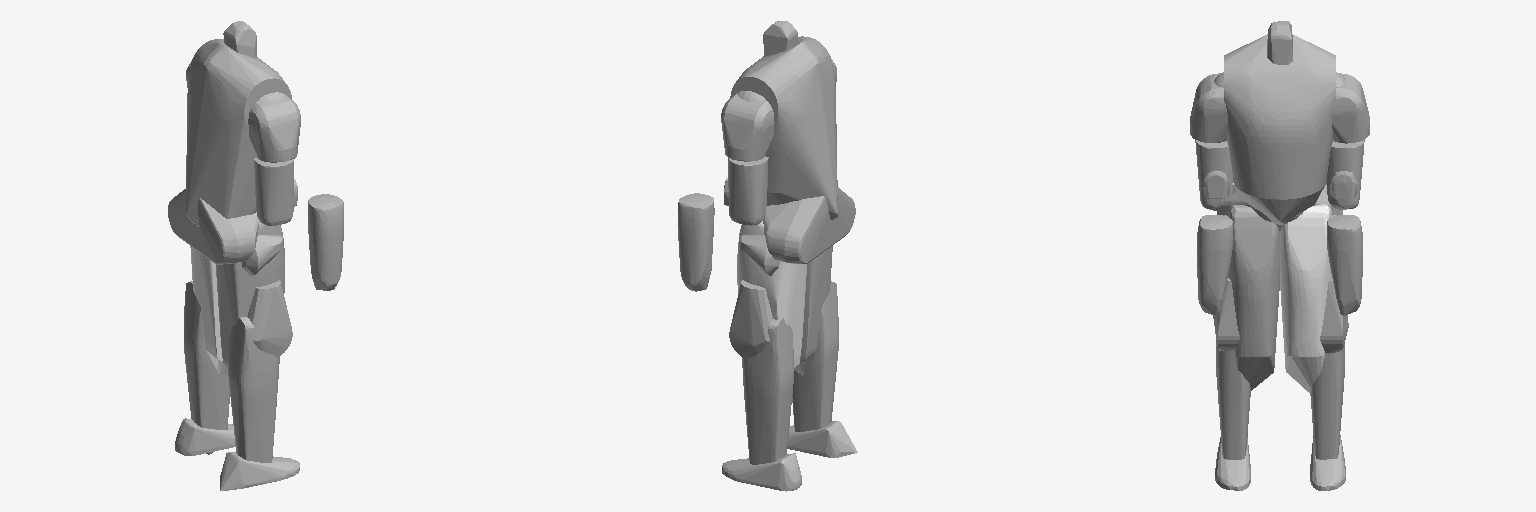
--- Facts derived from the render (not from the file) ---
The picture shows the robot from 3 angles, left to right: view 1: azimuth 30°, elevation 25°; view 2: azimuth 150°, elevation 25°; view 3: azimuth 270°, elevation 25°; orthographic projection.
Robot: z2_humanoid — 25 links, 24 joints (24 revolute); root link pelvis; default pose: every joint at zero.
Visible links, largest first — view 1: link_wy, LINK_KNEE_PITCH_R, LINK_KNEE_PITCH_L, pelvis, LINK_HIP_PITCH_R, link_ra5, link_ra2, LINK_HIP_YAW_R, link_ra3, LINK_HIP_PITCH_L, LINK_ANKLE_ROLL_R, LINK_ANKLE_ROLL_L (+2 smaller); view 2: link_wy, LINK_KNEE_PITCH_L, pelvis, LINK_KNEE_PITCH_R, LINK_HIP_PITCH_L, link_la5, link_la2, LINK_HIP_YAW_L, link_la3, LINK_HIP_PITCH_R, LINK_ANKLE_ROLL_L, LINK_ANKLE_ROLL_R (+2 smaller); view 3: link_wy, LINK_HIP_PITCH_L, LINK_HIP_PITCH_R, link_ra5, link_la5, LINK_KNEE_PITCH_R, LINK_KNEE_PITCH_L, link_ra2, link_la2, link_ra3, link_la3, LINK_HIP_YAW_L (+7 smaller).
Link boxes in pixels (x1,y1,x2,y2): link_wy: [186, 39, 291, 226]; LINK_KNEE_PITCH_R: [228, 317, 279, 462]; LINK_KNEE_PITCH_L: [184, 281, 229, 454]; pelvis: [168, 189, 258, 264]; LINK_HIP_PITCH_R: [216, 220, 284, 368]; link_ra5: [308, 194, 343, 290]; link_ra2: [248, 95, 300, 162]; LINK_HIP_YAW_R: [247, 280, 292, 357]; link_ra3: [254, 158, 293, 225]; LINK_HIP_PITCH_L: [190, 246, 227, 374]; LINK_ANKLE_ROLL_R: [220, 452, 299, 490]; LINK_ANKLE_ROLL_L: [175, 418, 235, 455]; link_wy: [730, 36, 837, 219]; LINK_KNEE_PITCH_L: [742, 318, 793, 464]; pelvis: [763, 187, 855, 263]; LINK_KNEE_PITCH_R: [792, 281, 838, 431]; LINK_HIP_PITCH_L: [737, 221, 806, 370]; link_la5: [678, 193, 714, 291]; link_la2: [721, 93, 774, 161]; LINK_HIP_YAW_L: [729, 280, 772, 358]; link_la3: [728, 156, 768, 225]; LINK_HIP_PITCH_R: [795, 246, 832, 375]; LINK_ANKLE_ROLL_L: [722, 453, 801, 491]; LINK_ANKLE_ROLL_R: [787, 421, 857, 457]; link_wy: [1224, 34, 1335, 224]; LINK_HIP_PITCH_L: [1280, 204, 1331, 393]; LINK_HIP_PITCH_R: [1228, 205, 1279, 390]; link_ra5: [1197, 215, 1232, 315]; link_la5: [1327, 215, 1362, 315]; LINK_KNEE_PITCH_R: [1216, 340, 1250, 459]; LINK_KNEE_PITCH_L: [1310, 344, 1344, 459]; link_ra2: [1190, 73, 1227, 142]; link_la2: [1332, 73, 1369, 143]; link_ra3: [1195, 140, 1233, 210]; link_la3: [1326, 140, 1364, 209]; LINK_HIP_YAW_L: [1320, 278, 1348, 352].
Bounding box of the posed robot: 0.3843 × 0.473 × 1.32 m (x, y, z).
25 mesh visuals loaded from 25 distinct referenced files (25 binary STL).

URDF robot description (z2_humanoid):
<?xml version="1.0" encoding="utf-8"?>
<!-- This URDF was automatically created by SolidWorks to URDF Exporter! Originally created by Stephen Brawner ([email redacted]) 
     Commit Version: 1.6.0-4-g7f85cfe  Build Version: 1.6.7995.38578
     For more information, please see http://wiki.ros.org/sw_urdf_exporter -->
<robot
  name="z2_humanoid">
  <link
    name="pelvis">
    <inertial>
      <origin
        xyz="0.0001 0 0.0044"
        rpy="0 0 0" />
      <mass
        value="3.4083" />
      <inertia
        ixx="0.0095"
        ixy="0"
        ixz="0"
        iyy="0.0056"
        iyz="0"
        izz="0.0094" />
    </inertial>
    <visual>
      <origin
        xyz="0 0 0"
        rpy="0 0 0" />
      <geometry>
        <mesh
          filename="package://z2_humanoid_description/meshes/pelvis.STL" />
      </geometry>
      <material
        name="">
        <color
          rgba="0.75294 0.75294 0.75294 1" />
      </material>
    </visual>
    <collision>
      <origin
        xyz="0 0 0"
        rpy="0 0 0" />
      <geometry>
        <mesh
          filename="package://z2_humanoid_description/meshes/pelvis.STL" />
      </geometry>
    </collision> 
    <collision>
      <origin
        xyz="0 0 0"
        rpy="0 0 0" />
      <geometry>
        <sphere radius="0.1"/>
      </geometry>
    </collision>
  </link>

  <!-- ###################################################################-->  
  <!-- ###########################  l_leg ################################-->  
  <!-- ###################################################################-->  
  <link
    name="LINK_HIP_PITCH_L">
    <inertial>
      <origin
        xyz="-0.0002 0.0495 -0.0399"
        rpy="0 0 0" />
      <mass
        value="1.5089" />
      <inertia
        ixx="0.002"
        ixy="0"
        ixz="0"
        iyy="0.0016"
        iyz="0.0003"
        izz="0.0014" />
    </inertial>
    <visual>
      <origin
        xyz="0 0 0"
        rpy="0 0 0" />
      <geometry>
        <mesh
          filename="package://z2_humanoid_description/meshes/LINK_HIP_PITCH_L.STL" />
      </geometry>
      <material
        name="">
        <color
          rgba="1 1 1 1" />
      </material>
    </visual>
    <collision>
      <origin
        xyz="0 0 0"
        rpy="0 0 0" />
      <geometry>
        <mesh
          filename="package://z2_humanoid_description/meshes/LINK_HIP_PITCH_L.STL" />
      </geometry>
    </collision>
  </link>
  <joint
    name="JOINT_HIP_PITCH_L"
    type="revolute">
    <origin
      xyz="0 0.06875 0"
      rpy="0 0 0" />
    <parent
      link="pelvis" />
    <child
      link="LINK_HIP_PITCH_L" />
    <axis
      xyz="0 1 0" />
    <limit
      lower="-2.7925"
      upper="2.7925"
      effort="120"
      velocity="20" />
  </joint>
  <link
    name="LINK_HIP_ROLL_L">
    <inertial>
      <origin
        xyz="0.0066 -0.0001 -0.0869"
        rpy="0 0 0" />
      <mass
        value="1.9215" />
      <inertia
        ixx="0.0035"
        ixy="0"
        ixz="-0.0007"
        iyy="0.0036"
        iyz="0"
        izz="0.0026" />
    </inertial>
    <visual>
      <origin
        xyz="0 0 0"
        rpy="0 0 0" />
      <geometry>
        <mesh
          filename="package://z2_humanoid_description/meshes/LINK_HIP_ROLL_L.STL" />
      </geometry>
      <material
        name="">
        <color
          rgba="0.75294 0.75294 0.75294 1" />
      </material>
    </visual>
    <collision>
      <origin
        xyz="0 0 0"
        rpy="0 0 0" />
      <geometry>
        <mesh
          filename="package://z2_humanoid_description/meshes/LINK_HIP_ROLL_L.STL" />
      </geometry>
    </collision>
  </link>
  <joint
    name="JOINT_HIP_ROLL_L"
    type="revolute">
    <origin
      xyz="0 0.053724 -0.045579"
      rpy="0 0 0" />
    <parent
      link="LINK_HIP_PITCH_L" />
    <child
      link="LINK_HIP_ROLL_L" />
    <axis
      xyz="1 0 0" />
    <limit
      lower="-0.524"
      upper="2.967"
      effort="120"
      velocity="20" />
  </joint>
  <link
    name="LINK_HIP_YAW_L">
    <inertial>
      <origin
        xyz="-0.0188 -0.0041 -0.0763"
        rpy="0 0 0" />
      <mass
        value="0.9002" />
      <inertia
        ixx="0.0036"
        ixy="-0.0001"
        ixz="-0.0009"
        iyy="0.0038"
        iyz="-0.0001"
        izz="0.002" />
    </inertial>
    <visual>
      <origin
        xyz="0 0 0"
        rpy="0 0 0" />
      <geometry>
        <mesh
          filename="package://z2_humanoid_description/meshes/LINK_HIP_YAW_L.STL" />
      </geometry>
      <material
        name="">
        <color
          rgba="0.75294 0.75294 0.75294 1" />
      </material>
    </visual>
    <collision>
      <origin
        xyz="0 0 0"
        rpy="0 0 0" />
      <geometry>
        <mesh
          filename="package://z2_humanoid_description/meshes/LINK_HIP_YAW_L.STL" />
      </geometry>
    </collision>
  </link>
  <joint
    name="JOINT_HIP_YAW_L"
    type="revolute">
    <origin
      xyz="-0.00084052 0 -0.1255"
      rpy="0 0 0" />
    <parent
      link="LINK_HIP_ROLL_L" />
    <child
      link="LINK_HIP_YAW_L" />
    <axis
      xyz="0 0 1" />
    <limit
      lower="-2.7925"
      upper="2.7925"
      effort="120"
      velocity="20" />
  </joint>
  <link
    name="LINK_KNEE_PITCH_L">
    <inertial>
      <origin
        xyz="0.0009 -0.0007 -0.101"
        rpy="0 0 0" />
      <mass
        value="3.7275" />
      <inertia
        ixx="0.0406"
        ixy="0"
        ixz="0.0004"
        iyy="0.0412"
        iyz="0.0004"
        izz="0.0064" />
    </inertial>
    <visual>
      <origin
        xyz="0 0 0"
        rpy="0 0 0" />
      <geometry>
        <mesh
          filename="package://z2_humanoid_description/meshes/LINK_KNEE_PITCH_L.STL" />
      </geometry>
      <material
        name="">
        <color
          rgba="0.75294 0.75294 0.75294 1" />
      </material>
    </visual>
    <collision>
      <origin
        xyz="0 0 0"
        rpy="0 0 0" />
      <geometry>
        <mesh
          filename="package://z2_humanoid_description/meshes/LINK_KNEE_PITCH_L.STL" />
      </geometry>
    </collision>
  </link>
  <joint
    name="JOINT_KNEE_PITCH_L"
    type="revolute">
    <origin
      xyz="-0.052111 0 -0.13729"
      rpy="0 0 0" />
    <parent
      link="LINK_HIP_YAW_L" />
    <child
      link="LINK_KNEE_PITCH_L" />
    <axis
      xyz="0 1 0" />
    <limit
      lower="0"
      upper="2.653"
      effort="120"
      velocity="20" />
  </joint>
  <link
    name="LINK_ANKLE_PITCH_L">
    <inertial>
      <origin
        xyz="0.00094063 5.0401E-07 -0.0083154"
        rpy="0 0 0" />
      <mass
        value="0.048544" />
      <inertia
        ixx="1.033E-05"
        ixy="0"
        ixz="0"
        iyy="1.12E-05"
        iyz="0"
        izz="1.1E-05" />
    </inertial>
    <visual>
      <origin
        xyz="0 0 0"
        rpy="0 0 0" />
      <geometry>
        <mesh
          filename="package://z2_humanoid_description/meshes/LINK_ANKLE_PITCH_L.STL" />
      </geometry>
      <material
        name="">
        <color
          rgba="0.75294 0.75294 0.75294 1" />
      </material>
    </visual>
    <collision>
      <origin
        xyz="0 0 0"
        rpy="0 0 0" />
      <geometry>
        <mesh
          filename="package://z2_humanoid_description/meshes/LINK_ANKLE_PITCH_L.STL" />
      </geometry>
    </collision>
  </link>
  <joint
    name="JOINT_ANKLE_PITCH_L"
    type="revolute">
    <origin
      xyz="0 0 -0.34"
      rpy="0 0 0" />
    <parent
      link="LINK_KNEE_PITCH_L" />
    <child
      link="LINK_ANKLE_PITCH_L" />
    <axis
      xyz="0 1 0" />
    <limit
      lower="-0.873"
      upper="0.524"
      effort="50"
      velocity="15" />
  </joint>
  <link
    name="LINK_ANKLE_ROLL_L">
    <inertial>
      <origin
        xyz="0.041316 0.00048241 -0.031752"
        rpy="0 0 0" />
      <mass
        value="0.7019" />
      <inertia
        ixx="0.0004"
        ixy="0"
        ixz="0.0001"
        iyy="0.0023"
        iyz="0"
        izz="0.0024" />
    </inertial>
    <visual>
      <origin
        xyz="0 0 0"
        rpy="0 0 0" />
      <geometry>
        <mesh
          filename="package://z2_humanoid_description/meshes/LINK_ANKLE_ROLL_L.STL" />
      </geometry>
      <material
        name="">
        <color
          rgba="0.75294 0.75294 0.75294 1" />
      </material>
    </visual>
    <collision>
      <origin
        xyz="0 0 0"
        rpy="0 0 0" />
      <geometry>
        <mesh
          filename="package://z2_humanoid_description/meshes/LINK_ANKLE_ROLL_L.STL" />
      </geometry>
    </collision>
  </link>
  <joint
    name="JOINT_ANKLE_ROLL_L"
    type="revolute">
    <origin
      xyz="0 0 -0.018"
      rpy="0 0 0" />
    <parent
      link="LINK_ANKLE_PITCH_L" />
    <child
      link="LINK_ANKLE_ROLL_L" />
    <axis
      xyz="1 0 0" />
    <limit
      lower="-0.262"
      upper="0.262"
      effort="50"
      velocity="15" />
  </joint>

  <!-- ###################################################################-->  
  <!-- ###########################  r_leg ################################-->  
  <!-- ###################################################################-->  
  <link
    name="LINK_HIP_PITCH_R">
    <inertial>
      <origin
        xyz="-0.0002 -0.0492 -0.0399"
        rpy="0 0 0" />
      <mass
        value="1.5089" />
      <inertia
        ixx="0.002"
        ixy="0"
        ixz="0"
        iyy="0.0016"
        iyz="-0.0003"
        izz="0.0014" />
    </inertial>
    <visual>
      <origin
        xyz="0 0 0"
        rpy="0 0 0" />
      <geometry>
        <mesh
          filename="package://z2_humanoid_description/meshes/LINK_HIP_PITCH_R.STL" />
      </geometry>
      <material
        name="">
        <color
          rgba="0.75294 0.75294 0.75294 1" />
      </material>
    </visual>
    <collision>
      <origin
        xyz="0 0 0"
        rpy="0 0 0" />
      <geometry>
        <mesh
          filename="package://z2_humanoid_description/meshes/LINK_HIP_PITCH_R.STL" />
      </geometry>
    </collision>
  </link>
  <joint
    name="JOINT_HIP_PITCH_R"
    type="revolute">
    <origin
      xyz="0 -0.06875 0"
      rpy="0 0 0" />
    <parent
      link="pelvis" />
    <child
      link="LINK_HIP_PITCH_R" />
    <axis
      xyz="0 1 0" />
    <limit
      lower="-2.7925"
      upper="2.7925"
      effort="120"
      velocity="20" />
  </joint>
  <link
    name="LINK_HIP_ROLL_R">
    <inertial>
      <origin
        xyz="0.0069 0.0029 -0.0869"
        rpy="0 0 0" />
      <mass
        value="1.9215" />
      <inertia
        ixx="0.0035"
        ixy="0"
        ixz="-0.0007"
        iyy="0.0036"
        iyz="0"
        izz="0.0026" />
    </inertial>
    <visual>
      <origin
        xyz="0 0 0"
        rpy="0 0 0" />
      <geometry>
        <mesh
          filename="package://z2_humanoid_description/meshes/LINK_HIP_ROLL_R.STL" />
      </geometry>
      <material
        name="">
        <color
          rgba="0.75294 0.75294 0.75294 1" />
      </material>
    </visual>
    <collision>
      <origin
        xyz="0 0 0"
        rpy="0 0 0" />
      <geometry>
        <mesh
          filename="package://z2_humanoid_description/meshes/LINK_HIP_ROLL_R.STL" />
      </geometry>
    </collision>
  </link>
  <joint
    name="JOINT_HIP_ROLL_R"
    type="revolute">
    <origin
      xyz="0 -0.053724 -0.045579"
      rpy="0 0 0" />
    <parent
      link="LINK_HIP_PITCH_R" />
    <child
      link="LINK_HIP_ROLL_R" />
    <axis
      xyz="1 0 0" />
    <limit
      lower="-2.967"
      upper="0.524"
      effort="120"
      velocity="20" />
  </joint>
  <link
    name="LINK_HIP_YAW_R">
    <inertial>
      <origin
        xyz="-0.0188 0.0027 -0.0763"
        rpy="0 0 0" />
      <mass
        value="0.9002" />
      <inertia
        ixx="0.0036"
        ixy="0.0001"
        ixz="-0.0009"
        iyy="0.0038"
        iyz="0.0001"
        izz="0.002" />
    </inertial>
    <visual>
      <origin
        xyz="0 0 0"
        rpy="0 0 0" />
      <geometry>
        <mesh
          filename="package://z2_humanoid_description/meshes/LINK_HIP_YAW_R.STL" />
      </geometry>
      <material
        name="">
        <color
          rgba="0.75294 0.75294 0.75294 1" />
      </material>
    </visual>
    <collision>
      <origin
        xyz="0 0 0"
        rpy="0 0 0" />
      <geometry>
        <mesh
          filename="package://z2_humanoid_description/meshes/LINK_HIP_YAW_R.STL" />
      </geometry>
    </collision>
  </link>
  <joint
    name="JOINT_HIP_YAW_R"
    type="revolute">
    <origin
      xyz="-0.00050599 0.0029213 -0.12555"
      rpy="0 0 0" />
    <parent
      link="LINK_HIP_ROLL_R" />
    <child
      link="LINK_HIP_YAW_R" />
    <axis
      xyz="0 0 1" />
    <limit
      lower="-2.7925"
      upper="2.7925"
      effort="120"
      velocity="20" />
  </joint>
  <link
    name="LINK_KNEE_PITCH_R">
    <inertial>
      <origin
        xyz="0.0009 0.0009 -0.101"
        rpy="0 0 0" />
      <mass
        value="3.7292" />
      <inertia
        ixx="0.0406"
        ixy="0"
        ixz="0.0004"
        iyy="0.0412"
        iyz="-0.0003"
        izz="0.0064" />
    </inertial>
    <visual>
      <origin
        xyz="0 0 0"
        rpy="0 0 0" />
      <geometry>
        <mesh
          filename="package://z2_humanoid_description/meshes/LINK_KNEE_PITCH_R.STL" />
      </geometry>
      <material
        name="">
        <color
          rgba="0.75294 0.75294 0.75294 1" />
      </material>
    </visual>
    <collision>
      <origin
        xyz="0 0 0"
        rpy="0 0 0" />
      <geometry>
        <mesh
          filename="package://z2_humanoid_description/meshes/LINK_KNEE_PITCH_R.STL" />
      </geometry>
    </collision>
  </link>
  <joint
    name="JOINT_KNEE_PITCH_R"
    type="revolute">
    <origin
      xyz="-0.052111 0 -0.13729"
      rpy="0 0 0" />
    <parent
      link="LINK_HIP_YAW_R" />
    <child
      link="LINK_KNEE_PITCH_R" />
    <axis
      xyz="0 1 0" />
    <limit
      lower="0"
      upper="2.653"
      effort="120"
      velocity="20" />
  </joint>
  <link
    name="LINK_ANKLE_PITCH_R">
    <inertial>
      <origin
        xyz="0.0009 0 -0.0083"
        rpy="0 0 0" />
      <mass
        value="0.048544" />
      <inertia
        ixx="1.033E-05"
        ixy="0"
        ixz="0"
        iyy="1.12E-05"
        iyz="0"
        izz="1.1E-05" />
    </inertial>
    <visual>
      <origin
        xyz="0 0 0"
        rpy="0 0 0" />
      <geometry>
        <mesh
          filename="package://z2_humanoid_description/meshes/LINK_ANKLE_PITCH_R.STL" />
      </geometry>
      <material
        name="">
        <color
          rgba="0.75294 0.75294 0.75294 1" />
      </material>
    </visual>
    <collision>
      <origin
        xyz="0 0 0"
        rpy="0 0 0" />
      <geometry>
        <mesh
          filename="package://z2_humanoid_description/meshes/LINK_ANKLE_PITCH_R.STL" />
      </geometry>
    </collision>
  </link>
  <joint
    name="JOINT_ANKLE_PITCH_R"
    type="revolute">
    <origin
      xyz="0 0 -0.34"
      rpy="0 0 0" />
    <parent
      link="LINK_KNEE_PITCH_R" />
    <child
      link="LINK_ANKLE_PITCH_R" />
    <axis
      xyz="0 1 0" />
    <limit
      lower="-0.873"
      upper="0.524"
      effort="50"
      velocity="15" />
  </joint>
  <link
    name="LINK_ANKLE_ROLL_R">
    <inertial>
      <origin
        xyz="0.041294 -0.0010615 -0.031752"
        rpy="0 0 0" />
      <mass
        value="0.70183" />
      <inertia
        ixx="0.0004"
        ixy="0"
        ixz="0.0001"
        iyy="0.0023"
        iyz="0"
        izz="0.0024" />
    </inertial>
    <visual>
      <origin
        xyz="0 0 0"
        rpy="0 0 0" />
      <geometry>
        <mesh
          filename="package://z2_humanoid_description/meshes/LINK_ANKLE_ROLL_R.STL" />
      </geometry>
      <material
        name="">
        <color
          rgba="0.75294 0.75294 0.75294 1" />
      </material>
    </visual>
    <collision>
      <origin
        xyz="0 0 0"
        rpy="0 0 0" />
      <geometry>
        <mesh
          filename="package://z2_humanoid_description/meshes/LINK_ANKLE_ROLL_R.STL" />
      </geometry>
    </collision>
  </link>
  <joint
    name="JOINT_ANKLE_ROLL_R"
    type="revolute">
    <origin
      xyz="0 0 -0.018"
      rpy="0 0 0" />
    <parent
      link="LINK_ANKLE_PITCH_R" />
    <child
      link="LINK_ANKLE_ROLL_R" />
    <axis
      xyz="1 0 0" />
    <limit
      lower="-0.262"
      upper="0.262"
      effort="50"
      velocity="15" />
  </joint>

  <!-- ###################################################################-->  
  <!-- ###########################  waist ################################-->  
  <!-- ###################################################################-->  
  <link
    name="link_wy">
    <inertial>
      <origin
        xyz="0.0061 0.0003 0.1879"
        rpy="0 0 0" />
      <mass
        value="9.8779" />
      <inertia
        ixx="0.1556"
        ixy="0"
        ixz="-0.0015"
        iyy="0.1368"
        iyz="0"
        izz="0.0457" />
    </inertial>
    <visual>
      <origin
        xyz="0 0 0"
        rpy="0 0 0" />
      <geometry>
        <mesh
          filename="package://z2_humanoid_description/meshes/link_wy.STL" />
      </geometry>
      <material
        name="">
        <color
          rgba="0.75294 0.75294 0.75294 1" />
      </material>
    </visual>
    <collision>
      <origin
        xyz="0 0 0"
        rpy="0 0 0" />
      <geometry>
        <mesh
          filename="package://z2_humanoid_description/meshes/link_wy.STL" />
      </geometry>
    </collision>
  </link>
  <joint
    name="joint_wy"
    type="revolute">
    <origin
      xyz="0 0 0.0619"
      rpy="0 0 0" />
    <parent
      link="pelvis" />
    <child
      link="link_wy" />
    <axis
      xyz="0 0 1" />
    <limit
      lower="-2.79"
      upper="2.79"
      effort="120"
      velocity="20" />
  </joint>  
  <!-- ###################################################################-->  
  <!-- ###########################  l_arm ################################-->  
  <!-- ###################################################################-->  
  <link
    name="link_la1">
    <inertial>
      <origin
        xyz="0.0033 0.0422 -0.0117"
        rpy="0 0 0" />
      <mass
        value="0.8939" />
      <inertia
        ixx="0.001"
        ixy="0"
        ixz="0"
        iyy="0.0007"
        iyz="0.0001"
        izz="0.0009" />
    </inertial>
    <visual>
      <origin
        xyz="0 0 0"
        rpy="0 0 0" />
      <geometry>
        <mesh
          filename="package://z2_humanoid_description/meshes/link_la1.STL" />
      </geometry>
      <material
        name="">
        <color
          rgba="0.75294 0.75294 0.75294 1" />
      </material>
    </visual>
    <collision>
      <origin
        xyz="0 0 0"
        rpy="0 0 0" />
      <geometry>
        <mesh
          filename="package://z2_humanoid_description/meshes/link_la1.STL" />
      </geometry>
    </collision>
  </link>
  <joint
    name="joint_la1"
    type="revolute">
    <origin
      xyz="0 0.11963 0.3208"
      rpy="0 0 0" />
    <parent
      link="link_wy" />
    <child
      link="link_la1" />
    <axis
      xyz="0 0.99255 -0.12187" />
    <limit
      lower="-2.88"
      upper="2.88"
      effort="50"
      velocity="14" />
  </joint>
  <link
    name="link_la2">
    <inertial>
      <origin
        xyz="-0.0006 0.0016 -0.0673"
        rpy="0 0 0" />
      <mass
        value="0.7787" />
      <inertia
        ixx="0.0012"
        ixy="0"
        ixz="0"
        iyy="0.0013"
        iyz="0"
        izz="0.0007" />
    </inertial>
    <visual>
      <origin
        xyz="0 0 0"
        rpy="0 0 0" />
      <geometry>
        <mesh
          filename="package://z2_humanoid_description/meshes/link_la2.STL" />
      </geometry>
      <material
        name="">
        <color
          rgba="0.75294 0.75294 0.75294 1" />
      </material>
    </visual>
    <collision>
      <origin
        xyz="0 0 0"
        rpy="0 0 0" />
      <geometry>
        <mesh
          filename="package://z2_humanoid_description/meshes/link_la2.STL" />
      </geometry>
    </collision>
  </link>
  <joint
    name="joint_la2"
    type="revolute">
    <origin
      xyz="0 0.047187 -0.013786"
      rpy="0 0 0" />
    <parent
      link="link_la1" />
    <child
      link="link_la2" />
    <axis
      xyz="1 0 0" />
    <limit
      lower="-0.175"
      upper="2.2515"
      effort="50"
      velocity="14" />
  </joint>
  <link
    name="link_la3">
    <inertial>
      <origin
        xyz="0.0035409 -0.00073964 -0.044592"
        rpy="0 0 0" />
      <mass
        value="0.35928" />
      <inertia
        ixx="0.0009"
        ixy="0"
        ixz="0.0001"
        iyy="0.0008"
        iyz="0"
        izz="0.0005" />
    </inertial>
    <visual>
      <origin
        xyz="0 0 0"
        rpy="0 0 0" />
      <geometry>
        <mesh
          filename="package://z2_humanoid_description/meshes/link_la3.STL" />
      </geometry>
      <material
        name="">
        <color
          rgba="0.75294 0.75294 0.75294 1" />
      </material>
    </visual>
    <collision>
      <origin
        xyz="0 0 0"
        rpy="0 0 0" />
      <geometry>
        <mesh
          filename="package://z2_humanoid_description/meshes/link_la3.STL" />
      </geometry>
    </collision>
  </link>
  <joint
    name="joint_la3"
    type="revolute">
    <origin
      xyz="0 0 -0.1171"
      rpy="0 0 0" />
    <parent
      link="link_la2" />
    <child
      link="link_la3" />
    <axis
      xyz="0 0 1" />
    <limit
      lower="-2.618"
      upper="2.618"
      effort="50"
      velocity="14" />
  </joint>
  <link
    name="link_la4">
    <inertial>
      <origin
        xyz="0.0447 -0.0015 -0.0086458"
        rpy="0 0 0" />
      <mass
        value="1.48" />
      <inertia
        ixx="0.0012"
        ixy="0.0001"
        ixz="0.0006"
        iyy="0.0046"
        iyz="0"
        izz="0.0044" />
    </inertial>
    <visual>
      <origin
        xyz="0 0 0"
        rpy="0 0 0" />
      <geometry>
        <mesh
          filename="package://z2_humanoid_description/meshes/link_la4.STL" />
      </geometry>
      <material
        name="">
        <color
          rgba="0.75294 0.75294 0.75294 1" />
      </material>
    </visual>
    <collision>
      <origin
        xyz="0 0 0"
        rpy="0 0 0" />
      <geometry>
        <mesh
          filename="package://z2_humanoid_description/meshes/link_la4.STL" />
      </geometry>
    </collision>
  </link>
  <joint
    name="joint_la4"
    type="revolute">
    <origin
      xyz="0.01924 0 -0.0979"
      rpy="0 0 0" />
    <parent
      link="link_la3" />
    <child
      link="link_la4" />
    <axis
      xyz="0 1 0" />
    <limit
      lower="-0.96"
      upper="2.0944"
      effort="50"
      velocity="14" />
  </joint>
  <link
    name="link_la5">
    <inertial>
      <origin
        xyz="0.025808 0.00016898 0.00074869"
        rpy="0 0 0" />
      <mass
        value="0.2728" />
      <inertia
        ixx="0.0002"
        ixy="0"
        ixz="0"
        iyy="0.0003"
        iyz="0"
        izz="0.0003" />
    </inertial>
    <visual>
      <origin
        xyz="0 0 0"
        rpy="0 0 0" />
      <geometry>
        <mesh
          filename="package://z2_humanoid_description/meshes/link_la5.STL" />
      </geometry>
      <material
        name="">
        <color
          rgba="0.75294 0.75294 0.75294 1" />
      </material>
    </visual>
    <collision>
      <origin
        xyz="0 0 0"
        rpy="0 0 0" />
      <geometry>
        <mesh
          filename="package://z2_humanoid_description/meshes/link_la5.STL" />
      </geometry>
    </collision>
  </link>
  <joint
    name="joint_la5"
    type="revolute">
    <origin
      xyz="0.138 0 -0.017415"
      rpy="0 0 0" />
    <parent
      link="link_la4" />
    <child
      link="link_la5" />
    <axis
      xyz="1 0 0" />
    <limit
      lower="-2.618"
      upper="2.618"
      effort="50"
      velocity="14" />
  </joint>

  <!-- ###################################################################-->  
  <!-- ###########################  r_arm ################################-->  
  <!-- ###################################################################-->  
  <link
    name="link_ra1">
    <inertial>
      <origin
        xyz="0.0032 -0.0422 -0.0117"
        rpy="0 0 0" />
      <mass
        value="0.8976" />
      <inertia
        ixx="0.001"
        ixy="0"
        ixz="0"
        iyy="0.0007"
        iyz="-0.0001"
        izz="0.0009" />
    </inertial>
    <visual>
      <origin
        xyz="0 0 0"
        rpy="0 0 0" />
      <geometry>
        <mesh
          filename="package://z2_humanoid_description/meshes/link_ra1.STL" />
      </geometry>
      <material
        name="">
        <color
          rgba="0.75294 0.75294 0.75294 1" />
      </material>
    </visual>
    <collision>
      <origin
        xyz="0 0 0"
        rpy="0 0 0" />
      <geometry>
        <mesh
          filename="package://z2_humanoid_description/meshes/link_ra1.STL" />
      </geometry>
    </collision>
  </link>
  <joint
    name="joint_ra1"
    type="revolute">
    <origin
      xyz="0 -0.11963 0.3208"
      rpy="0 0 0" />
    <parent
      link="link_wy" />
    <child
      link="link_ra1" />
    <axis
      xyz="0 0.99255 -0.12187" />
    <limit
      lower="-2.88"
      upper="2.88"
      effort="50"
      velocity="14" />
  </joint>
  <link
    name="link_ra2">
    <inertial>
      <origin
        xyz="-0.0005 -0.0016 -0.0678"
        rpy="0 0 0" />
      <mass
        value="0.7868" />
      <inertia
        ixx="0.0012"
        ixy="0"
        ixz="0"
        iyy="0.0013"
        iyz="0"
        izz="0.0007" />
    </inertial>
    <visual>
      <origin
        xyz="0 0 0"
        rpy="0 0 0" />
      <geometry>
        <mesh
          filename="package://z2_humanoid_description/meshes/link_ra2.STL" />
      </geometry>
      <material
        name="">
        <color
          rgba="0.75294 0.75294 0.75294 1" />
      </material>
    </visual>
    <collision>
      <origin
        xyz="0 0 0"
        rpy="0 0 0" />
      <geometry>
        <mesh
          filename="package://z2_humanoid_description/meshes/link_ra2.STL" />
      </geometry>
    </collision>
  </link>
  <joint
    name="joint_ra2"
    type="revolute">
    <origin
      xyz="0 -0.047187 -0.013786"
      rpy="0 0 0" />
    <parent
      link="link_ra1" />
    <child
      link="link_ra2" />
    <axis
      xyz="1 0 0" />
    <limit
      lower="-2.2515"
      upper="0.175"
      effort="50"
      velocity="14" />
  </joint>
  <link
    name="link_ra3">
    <inertial>
      <origin
        xyz="0.0035415 0.0007384 -0.044591"
        rpy="0 0 0" />
      <mass
        value="0.3593" />
      <inertia
        ixx="0.0009"
        ixy="0"
        ixz="0.0001"
        iyy="0.0008"
        iyz="0"
        izz="0.0005" />
    </inertial>
    <visual>
      <origin
        xyz="0 0 0"
        rpy="0 0 0" />
      <geometry>
        <mesh
          filename="package://z2_humanoid_description/meshes/link_ra3.STL" />
      </geometry>
      <material
        name="">
        <color
          rgba="0.75294 0.75294 0.75294 1" />
      </material>
    </visual>
    <collision>
      <origin
        xyz="0 0 0"
        rpy="0 0 0" />
      <geometry>
        <mesh
          filename="package://z2_humanoid_description/meshes/link_ra3.STL" />
      </geometry>
    </collision>
  </link>
  <joint
    name="joint_ra3"
    type="revolute">
    <origin
      xyz="0 0 -0.1171"
      rpy="0 0 0" />
    <parent
      link="link_ra2" />
    <child
      link="link_ra3" />
    <axis
      xyz="0 0 1" />
    <limit
      lower="-2.618"
      upper="2.618"
      effort="50"
      velocity="14" />
  </joint>
  <link
    name="link_ra4">
    <inertial>
      <origin
        xyz="0.0447 0.0015 -0.0087"
        rpy="0 0 0" />
      <mass
        value="1.48" />
      <inertia
        ixx="0.0012"
        ixy="0.0001"
        ixz="0.0006"
        iyy="0.0046"
        iyz="0"
        izz="0.0044" />
    </inertial>
    <visual>
      <origin
        xyz="0 0 0"
        rpy="0 0 0" />
      <geometry>
        <mesh
          filename="package://z2_humanoid_description/meshes/link_ra4.STL" />
      </geometry>
      <material
        name="">
        <color
          rgba="0.75294 0.75294 0.75294 1" />
      </material>
    </visual>
    <collision>
      <origin
        xyz="0 0 0"
        rpy="0 0 0" />
      <geometry>
        <mesh
          filename="package://z2_humanoid_description/meshes/link_ra4.STL" />
      </geometry>
    </collision>
  </link>
  <joint
    name="joint_ra4"
    type="revolute">
    <origin
      xyz="0.01924 0 -0.0979"
      rpy="0 0 0" />
    <parent
      link="link_ra3" />
    <child
      link="link_ra4" />
    <axis
      xyz="0 1 0" />
    <limit
      lower="-0.96"
      upper="2.0944"
      effort="50"
      velocity="14" />
  </joint>
  <link
    name="link_ra5">
    <inertial>
      <origin
        xyz="0.025808 -0.0001686 0.00074876"
        rpy="0 0 0" />
      <mass
        value="0.27279" />
      <inertia
        ixx="0.0002"
        ixy="0"
        ixz="0"
        iyy="0.0003"
        iyz="0"
        izz="0.0003" />
    </inertial>
    <visual>
      <origin
        xyz="0 0 0"
        rpy="0 0 0" />
      <geometry>
        <mesh
          filename="package://z2_humanoid_description/meshes/link_ra5.STL" />
      </geometry>
      <material
        name="">
        <color
          rgba="0.75294 0.75294 0.75294 1" />
      </material>
    </visual>
    <collision>
      <origin
        xyz="0 0 0"
        rpy="0 0 0" />
      <geometry>
        <mesh
          filename="package://z2_humanoid_description/meshes/link_ra5.STL" />
      </geometry>
    </collision>
  </link>
  <joint
    name="joint_ra5"
    type="revolute">
    <origin
      xyz="0.138 0 -0.017415"
      rpy="0 0 0" />
    <parent
      link="link_ra4" />
    <child
      link="link_ra5" />
    <axis
      xyz="1 0 0" />
    <limit
      lower="-2.618"
      upper="2.618"
      effort="50"
      velocity="14" />
  </joint>
  
  <!-- ###################################################################-->  
  <!-- ###########################  head  ################################-->  
  <!-- ###################################################################-->  
  <link
    name="link_hy">
    <inertial>
      <origin
        xyz="0.0079 -0.0004 0.0262"
        rpy="0 0 0" />
      <mass
        value="0.7987" />
      <inertia
        ixx="0.0017"
        ixy="0"
        ixz="0"
        iyy="0.0022"
        iyz="0"
        izz="0.0017" />
    </inertial>
    <visual>
      <origin
        xyz="0 0 0"
        rpy="0 0 0" />
      <geometry>
        <mesh
          filename="package://z2_humanoid_description/meshes/link_hy.STL" />
      </geometry>
      <material
        name="">
        <color
          rgba="0.75294 0.75294 0.75294 1" />
      </material>
    </visual>
    <collision>
      <origin
        xyz="0 0 0"
        rpy="0 0 0" />
      <geometry>
        <mesh
          filename="package://z2_humanoid_description/meshes/link_hy.STL" />
      </geometry>
    </collision>
  </link>
  <joint
    name="joint_hy"
    type="revolute">
    <origin
      xyz="0 0 0.4889"
      rpy="0 0 0" />
    <parent
      link="link_wy" />
    <child
      link="link_hy" />
    <axis
      xyz="0 0 1" />
    <limit
      lower="-0.6981"
      upper="0.6981"
      effort="50"
      velocity="15" />
  </joint>
  
  
</robot>
